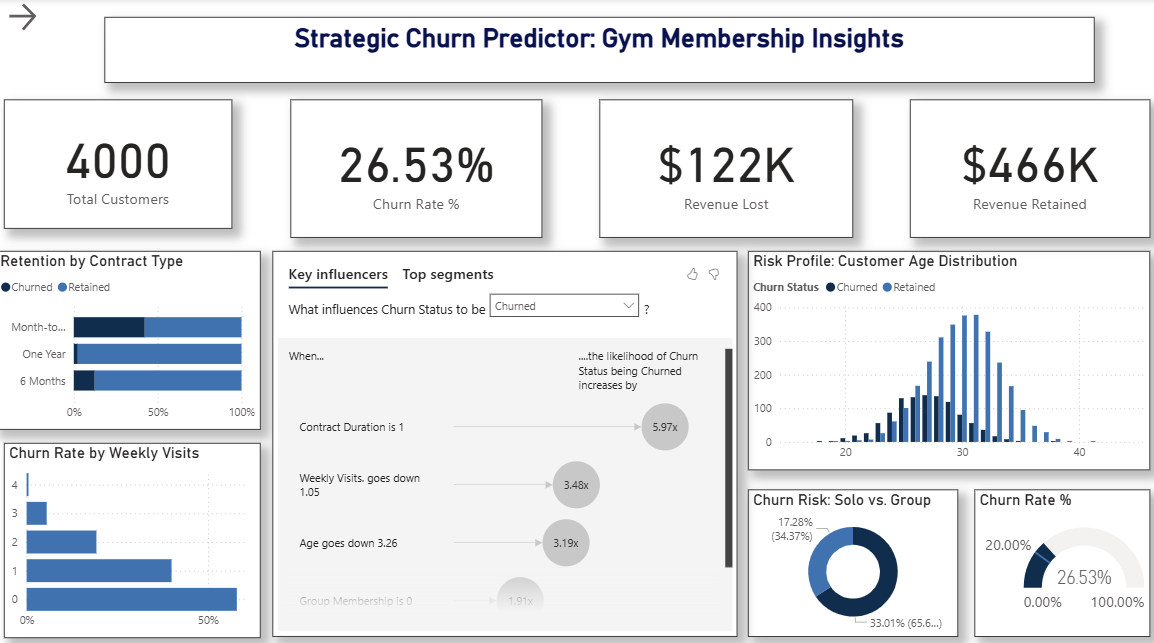

Layout of this report page (visuals, bound fields, positions):
{"tool":"powerbi","page":{"name":"Page 1","canvas":[1280,720],"ordinal":0},"visuals":[{"type":"card","fields":{"Values":["gym_churn_us.Total Customers"]},"box":[9.9,111,251.8,142.5],"z":0},{"type":"card","fields":{"Values":["gym_churn_us.Churn Rate %"]},"box":[326.3,111,278.3,152.4],"z":1000},{"type":"hundredPercentStackedBarChart","title":"Retention by Contract Type","fields":{"Y":["gym_churn_us.Total Customers"],"Category":["gym_churn_us.Contract Name"],"Series":["gym_churn_us.Churn Status"]},"box":[0,278.3,293.2,197.1],"z":2000},{"type":"clusteredColumnChart","title":"Risk Profile: Customer Age Distribution","fields":{"Category":["gym_churn_us.Age"],"Y":["gym_churn_us.Total Customers"],"Series":["gym_churn_us.Churn Status"]},"box":[831.6,278.3,443.9,241.8],"z":3000},{"type":"clusteredBarChart","title":"Churn Rate by Weekly Visits","fields":{"Category":["gym_churn_us.Weekly Visits"],"Y":["gym_churn_us.Churn Rate %"]},"box":[9.9,490.3,283.3,215.3],"z":4000},{"type":"card","fields":{"Values":["gym_churn_us.Revenue Lost"]},"box":[667.6,111,279.9,152.4],"z":5000},{"type":"donutChart","title":"Churn Risk: Solo vs. Group","fields":{"Y":["gym_churn_us.Churn Rate %"],"Category":["gym_churn_us.Group Status"]},"box":[831.6,541.7,231.9,162.3],"z":6000},{"type":"keyDriversVisual","fields":{"Target":["gym_churn_us.Churn Status"],"ExplainBy":["Sum(gym_churn_us.Contract_period)","Sum(gym_churn_us.Group_visits)","Sum(gym_churn_us.Age)","Sum(gym_churn_us.Avg_class_frequency_current_month)"]},"box":[306.4,278.3,513.5,425.7],"z":7000},{"type":"textbox","box":[120.9,19.9,1093.3,72.9],"z":8000},{"type":"card","fields":{"Values":["gym_churn_us.Revenue Retained"]},"box":[1010.5,111,265,152.4],"z":9000},{"type":"gauge","fields":{"Y":["gym_churn_us.Churn Rate %"]},"box":[1081.7,541.7,193.8,162.3],"z":10000},{"type":"actionButton","box":[9.9,0,89.4,39.8],"z":10001}]}

Visuals, with their boxes on the page's 1280x720 design canvas (x1, y1, x2, y2). These are canvas units, not pixel positions in the 1154x643 screenshot, which may show the page scaled, cropped or inside an application window:
card - gym_churn_us.Total Customers: {"x1": 10, "y1": 111, "x2": 262, "y2": 254}
card - gym_churn_us.Churn Rate %: {"x1": 326, "y1": 111, "x2": 605, "y2": 263}
"Retention by Contract Type" hundredPercentStackedBarChart: {"x1": 0, "y1": 278, "x2": 293, "y2": 475}
"Risk Profile: Customer Age Distribution" clusteredColumnChart: {"x1": 832, "y1": 278, "x2": 1276, "y2": 520}
"Churn Rate by Weekly Visits" clusteredBarChart: {"x1": 10, "y1": 490, "x2": 293, "y2": 706}
card - gym_churn_us.Revenue Lost: {"x1": 668, "y1": 111, "x2": 948, "y2": 263}
"Churn Risk: Solo vs. Group" donutChart: {"x1": 832, "y1": 542, "x2": 1064, "y2": 704}
keyDriversVisual - gym_churn_us.Churn Status x Sum(gym_churn_us.Contract_period): {"x1": 306, "y1": 278, "x2": 820, "y2": 704}
textbox: {"x1": 121, "y1": 20, "x2": 1214, "y2": 93}
card - gym_churn_us.Revenue Retained: {"x1": 1010, "y1": 111, "x2": 1276, "y2": 263}
gauge - gym_churn_us.Churn Rate %: {"x1": 1082, "y1": 542, "x2": 1276, "y2": 704}
actionButton: {"x1": 10, "y1": 0, "x2": 99, "y2": 40}
